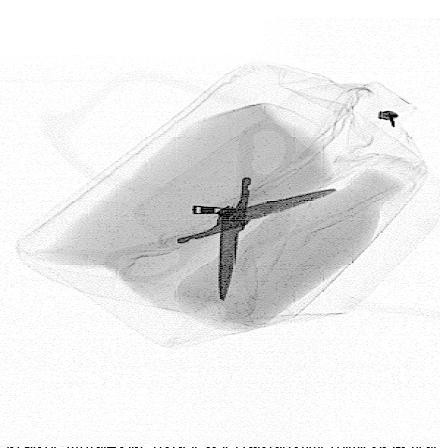Scissors: (99, 120, 340, 303)
